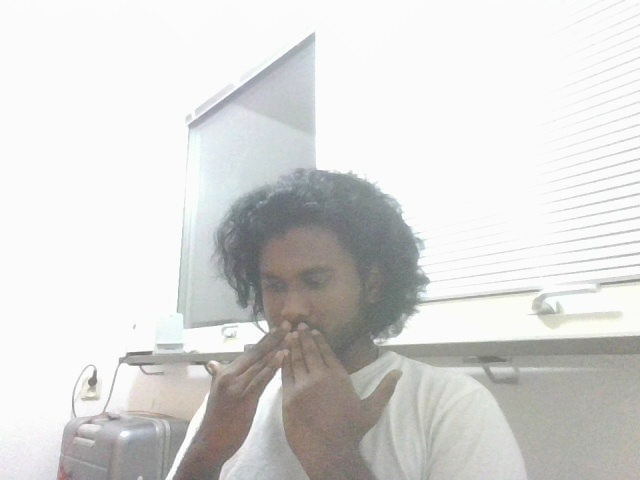Thanks: (196, 321, 404, 464)
